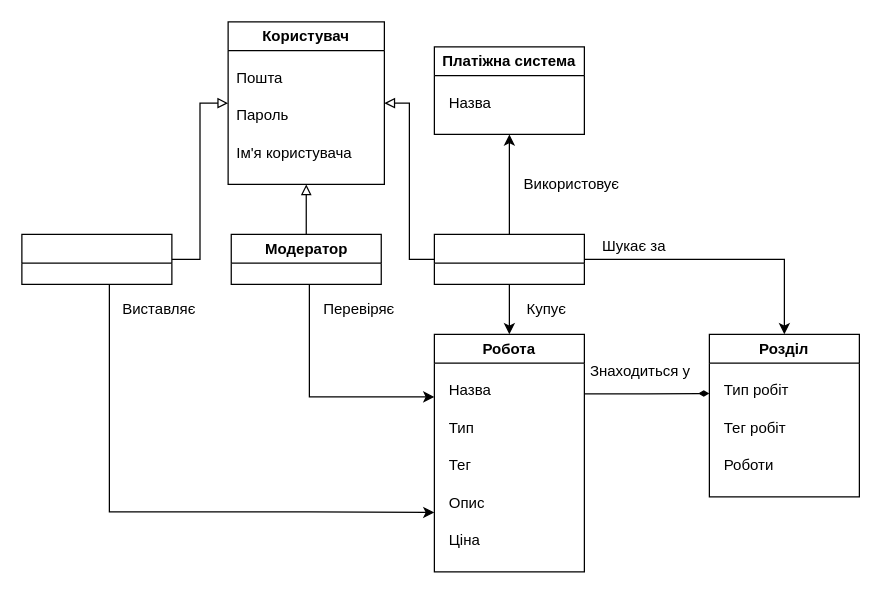
The diagram is 881 pixels wide and 594 high, and some of its shapes have lost their labels. Here are the shapes that lost their labels. From the top down, the centre of each, then its label:
(96,258): Художник
(508,258): Покупець
